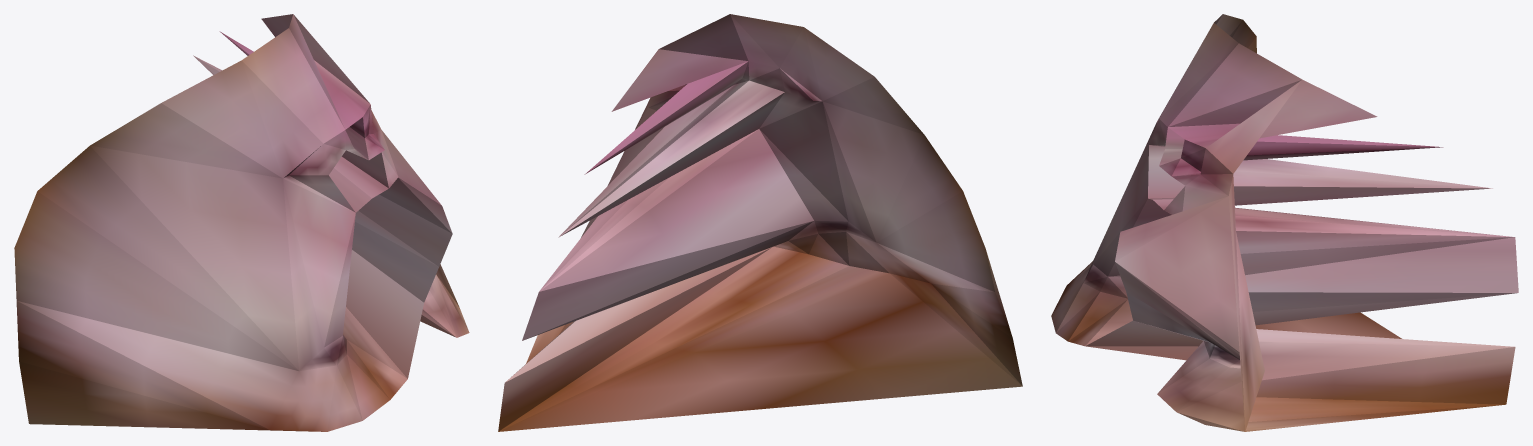
The model's file is fake_6659.obj.
3 renders of one model, left to right at view 1: azimuth 30°, elevation 25°; view 2: azimuth 150°, elevation 25°; view 3: azimuth 270°, elevation 25°, orthographic. The views are drawn at different scales.
Bounding box in the file's own units: 119 × 85 × 113.
